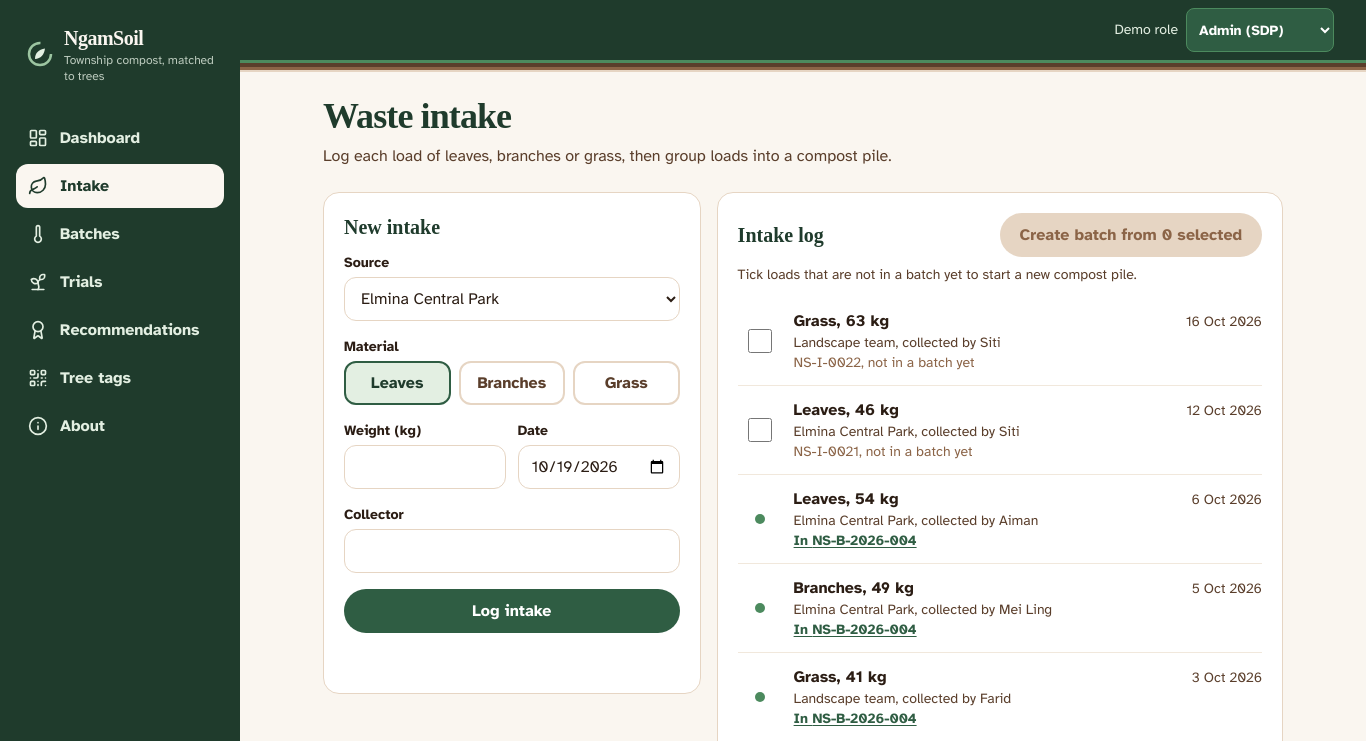
Test: IntakePage › groups selected intakes into a new batch
Expected: the button "Create batch from 0 selected" is disabled, [1000,213,1262,257]
Step 1. Click the checkbox named "Select NS-I-0021" → coordinates (760, 430), box [748,418,772,442]
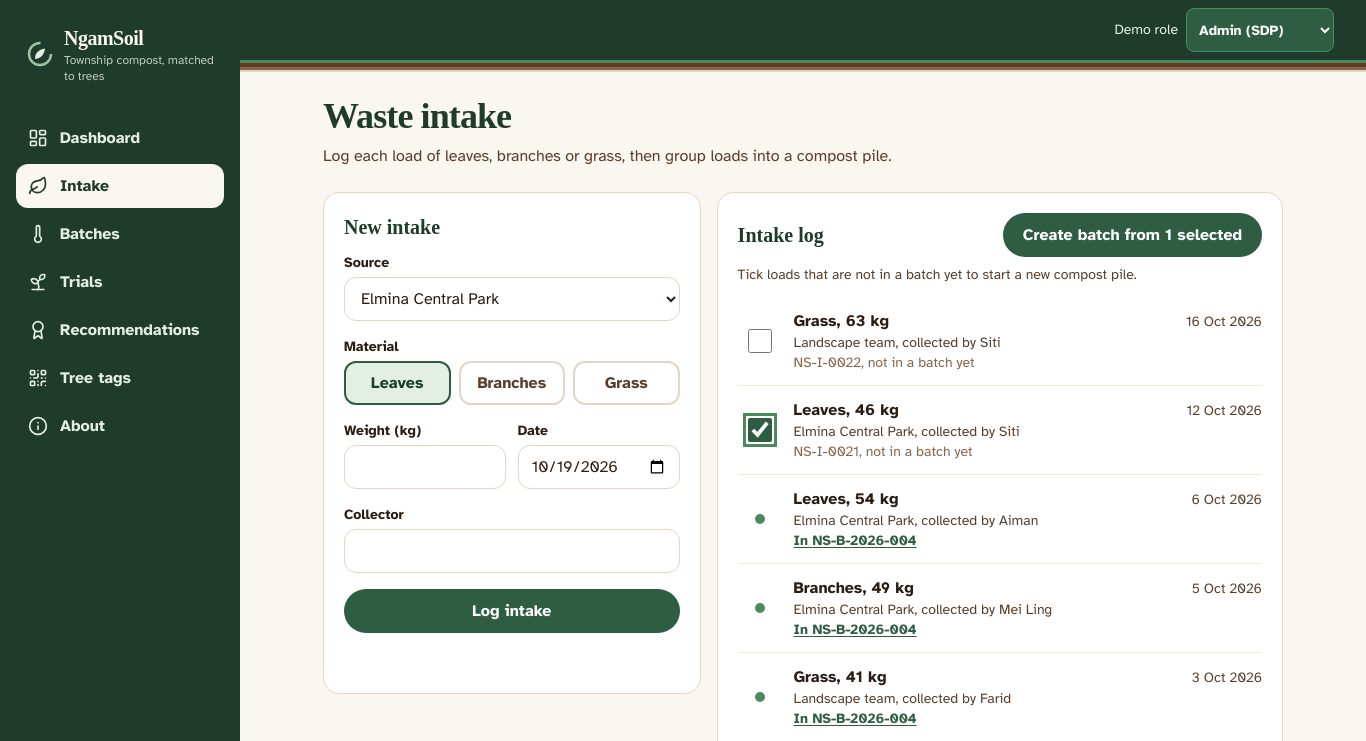
Step 2. Click the checkbox named "Select NS-I-0022" → coordinates (760, 341), box [748,329,772,353]
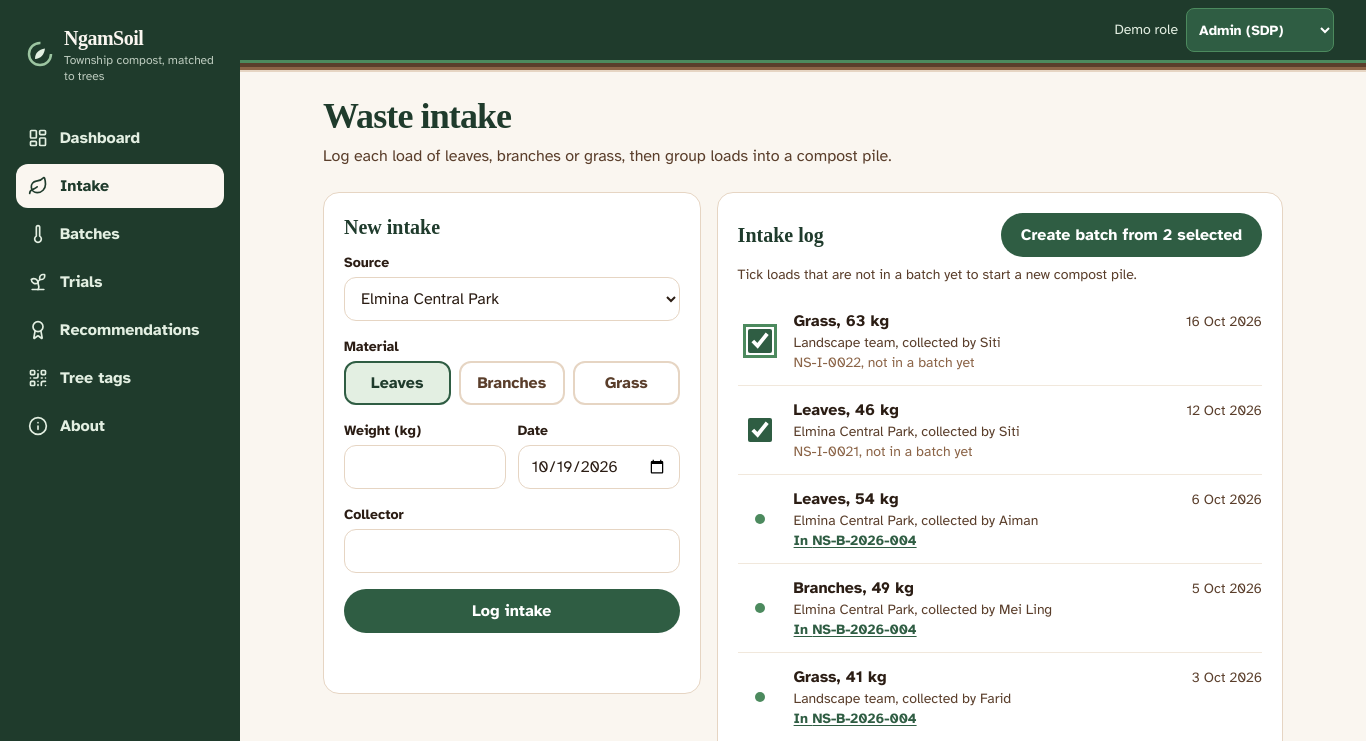
Step 3. Click the button "Create batch from 2 selected" → coordinates (1131, 235), box [1001,213,1262,257]
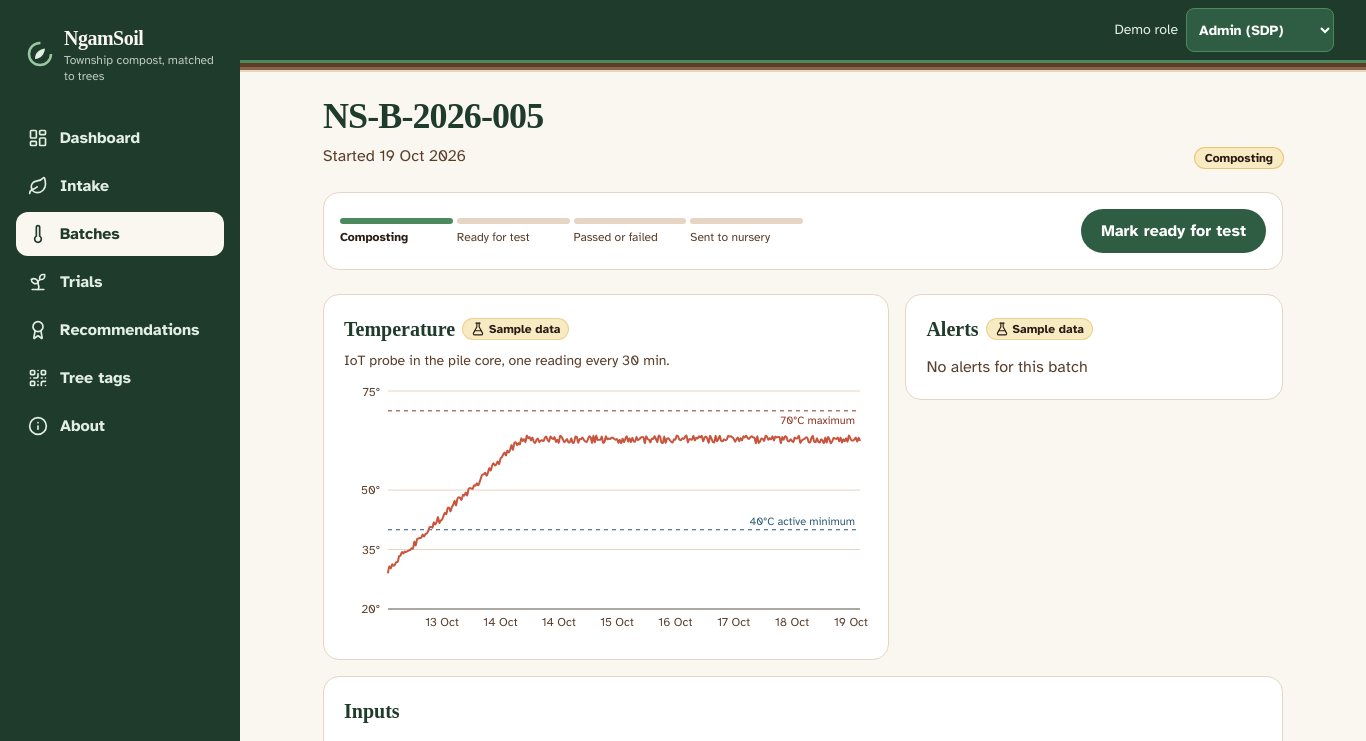
Now the heading "NS-B-2026-005" is shown, box [323,96,543,136]
